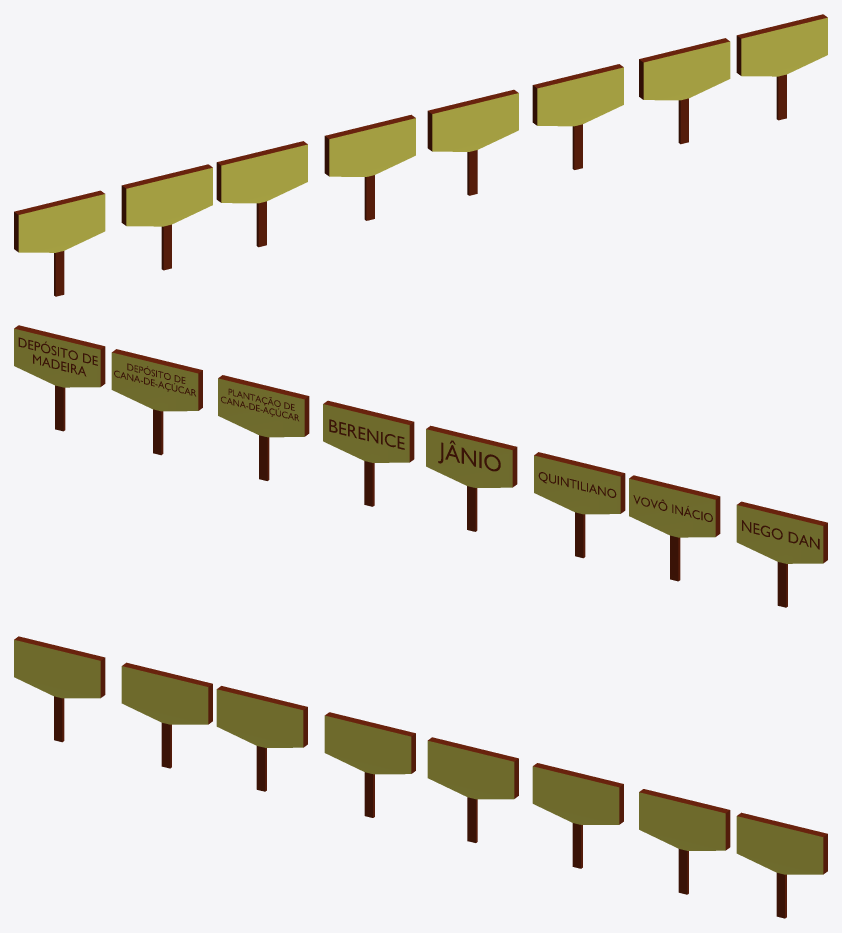
Rendered from PLACAS COM NOMES .fbx.
3 views of the same model, one above another, from view 1: azimuth 30°, elevation 25°; view 2: azimuth 150°, elevation 25°; view 3: azimuth 330°, elevation 25° (orthographic).
Parts seen in each view (by area): view 1: Cube.003, Cube.006, Cube.005, Cube.001, Cube.007, Cube, Cube.002, Cube.004; view 2: Cube, Cube.001, Cube.006, Cube.005, Cube.007, Cube.003, Cube.002, Cube.004, Plantação de cana-de-açucar.004, Plantação de cana-de-açucar.002, Plantação de cana-de-açucar.001, Plantação de cana-de-açucar.003; view 3: Cube.002, Cube.004, Cube.007, Cube.003, Cube.006, Cube.005, Cube.001, Cube.
Boxes of the visible parts, left/top/right/bottom form: Cube.003: left=736, top=14, right=827, bottom=120; Cube.006: left=121, top=164, right=212, bottom=270; Cube.005: left=216, top=141, right=307, bottom=247; Cube.001: left=639, top=38, right=730, bottom=144; Cube.007: left=14, top=190, right=105, bottom=296; Cube: left=532, top=64, right=623, bottom=169; Cube.002: left=427, top=89, right=518, bottom=195; Cube.004: left=324, top=114, right=415, bottom=220; Cube: left=218, top=375, right=309, bottom=480; Cube.001: left=111, top=349, right=202, bottom=455; Cube.006: left=629, top=475, right=720, bottom=581; Cube.005: left=534, top=452, right=625, bottom=558; Cube.007: left=736, top=501, right=827, bottom=607; Cube.003: left=14, top=325, right=105, bottom=431; Cube.002: left=323, top=400, right=414, bottom=506; Cube.004: left=426, top=425, right=517, bottom=531; Plantação de cana-de-açucar.004: left=18, top=337, right=97, bottom=376; Plantação de cana-de-açucar.002: left=221, top=388, right=298, bottom=421; Plantação de cana-de-açucar.001: left=114, top=363, right=195, bottom=396; Plantação de cana-de-açucar.003: left=329, top=419, right=404, bottom=449; Cube.002: left=427, top=737, right=518, bottom=842; Cube.004: left=324, top=712, right=415, bottom=817; Cube.007: left=14, top=636, right=105, bottom=742; Cube.003: left=736, top=812, right=827, bottom=918; Cube.006: left=121, top=662, right=212, bottom=768; Cube.005: left=216, top=686, right=307, bottom=791; Cube.001: left=639, top=789, right=730, bottom=894; Cube: left=532, top=763, right=623, bottom=868.
Bounding box in the file's own units: 555 × 60.44 × 5.95.
